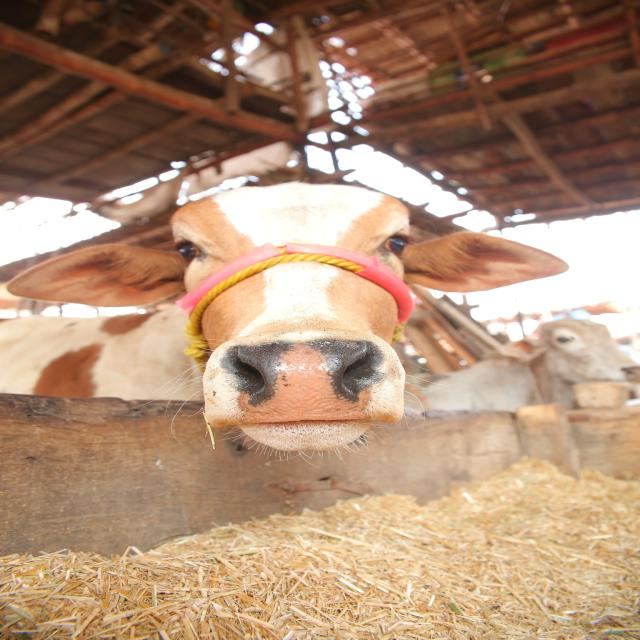muzzles: (208, 334, 394, 434)
